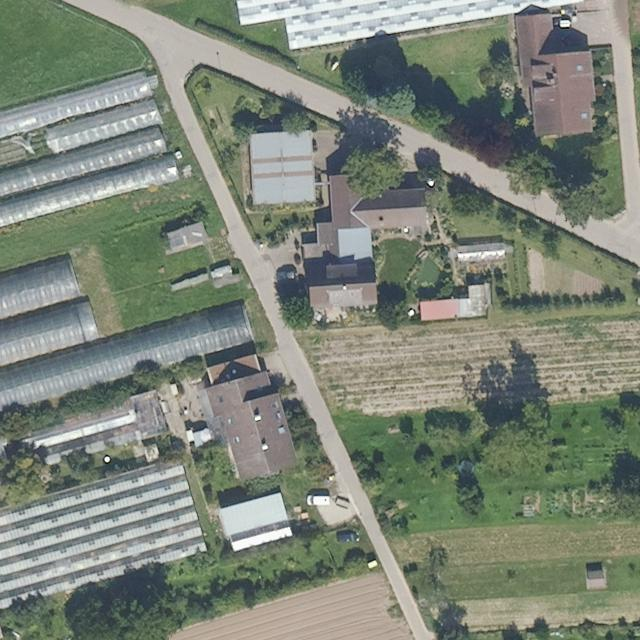PV: (254, 176, 314, 204), (252, 132, 312, 159), (252, 160, 313, 174)
